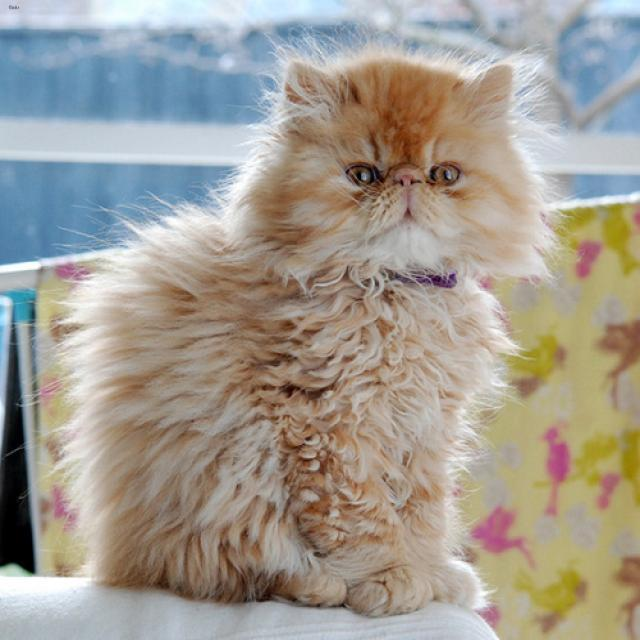Persian: (226, 53, 564, 295)
